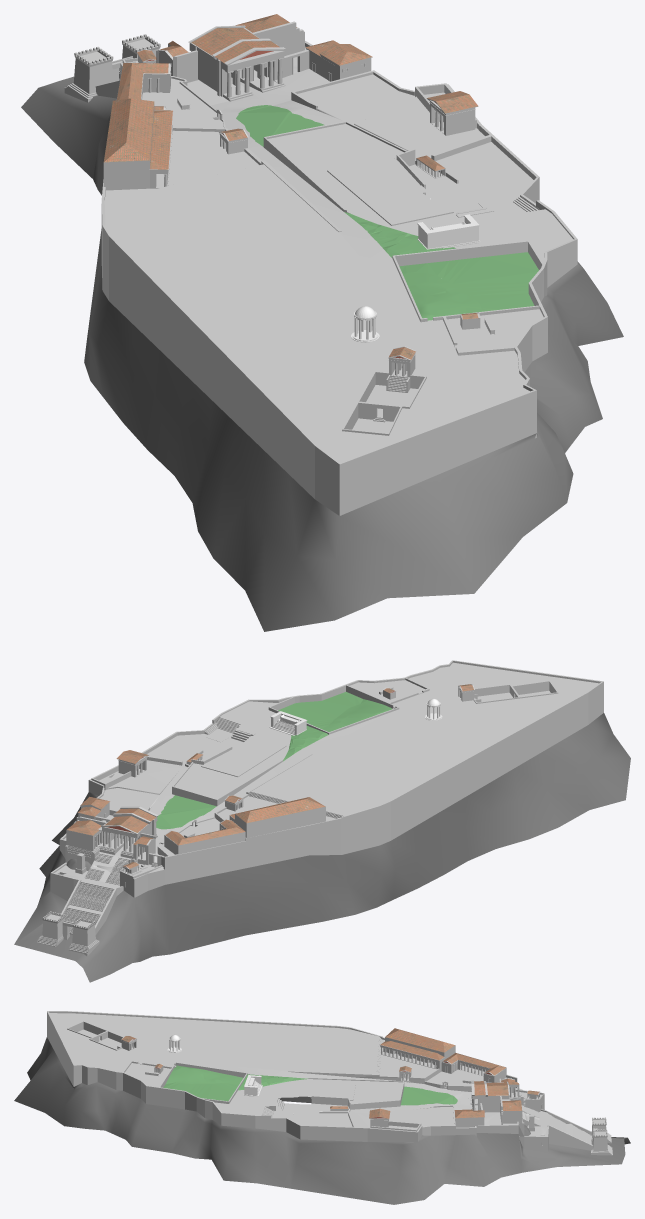
Rendered from Acropolis.fbx.
The picture shows the model from 3 angles, top to bottom: view 1: azimuth 30°, elevation 25°; view 2: azimuth 150°, elevation 25°; view 3: azimuth 270°, elevation 25°; orthographic projection. The views are drawn at different scales.
Visible parts, largest first — view 1: pCube6, baseCliffs, pCube8, polySurface80, polySurface83, polySurface84, polySurface1377; view 2: pCube6, baseCliffs, pCube8, polySurface80, polySurface83, polySurface1377, polySurface84; view 3: pCube6, baseCliffs, polySurface80, pCube8, polySurface83, polySurface84, polySurface1377.
Boxes of the visible parts, left/top/right/bottom form: pCube6: left=64, top=34, right=577, bottom=515; baseCliffs: left=21, top=68, right=623, bottom=631; pCube8: left=133, top=14, right=372, bottom=97; polySurface80: left=103, top=63, right=189, bottom=190; polySurface83: left=342, top=346, right=426, bottom=435; polySurface84: left=426, top=91, right=478, bottom=135; polySurface1377: left=417, top=214, right=480, bottom=249; pCube6: left=37, top=660, right=603, bottom=956; baseCliffs: left=14, top=713, right=630, bottom=982; pCube8: left=65, top=796, right=164, bottom=876; polySurface80: left=164, top=797, right=325, bottom=854; polySurface83: left=458, top=680, right=558, bottom=703; polySurface1377: left=269, top=711, right=307, bottom=735; polySurface84: left=116, top=750, right=148, bottom=777; pCube6: left=47, top=1011, right=612, bottom=1155; baseCliffs: left=14, top=1037, right=630, bottom=1204; polySurface80: left=380, top=1028, right=506, bottom=1083; pCube8: left=454, top=1078, right=541, bottom=1136; polySurface83: left=67, top=1021, right=136, bottom=1050; polySurface84: left=369, top=1108, right=390, bottom=1127; polySurface1377: left=243, top=1075, right=262, bottom=1096.
Bounding box in the file's own units: 192 × 61.63 × 348.
